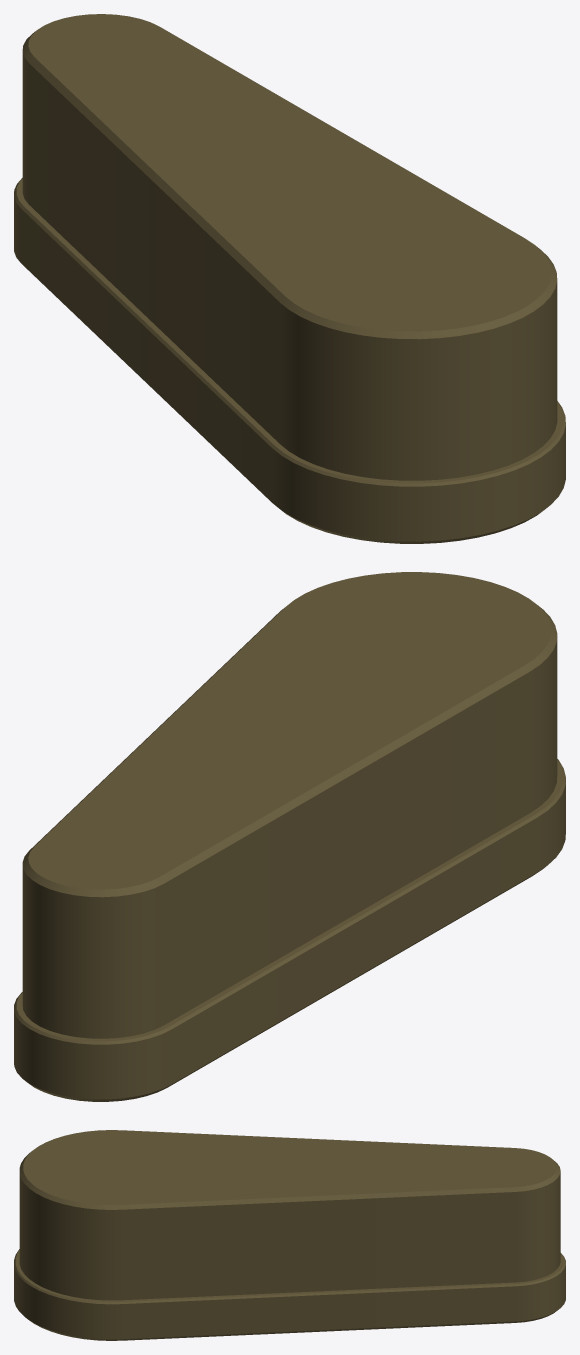
3 views of the same model, one above another, from view 1: azimuth 30°, elevation 25°; view 2: azimuth 150°, elevation 25°; view 3: azimuth 270°, elevation 25° (orthographic). The views are drawn at different scales.
Visible parts, largest first — view 1: body, band; view 2: body, band; view 3: body, band.
Part boxes in pixels (x1,y1,x2,y2): body: [22, 14, 557, 480]; band: [14, 178, 565, 543]; body: [22, 572, 557, 1038]; band: [14, 759, 565, 1101]; body: [19, 1130, 560, 1300]; band: [14, 1249, 565, 1340].
Size of the model in its own units: 0.0426 by 0.032 by 0.1199.
